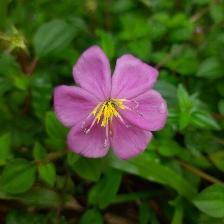malabar melastome: (54, 45, 172, 164)
